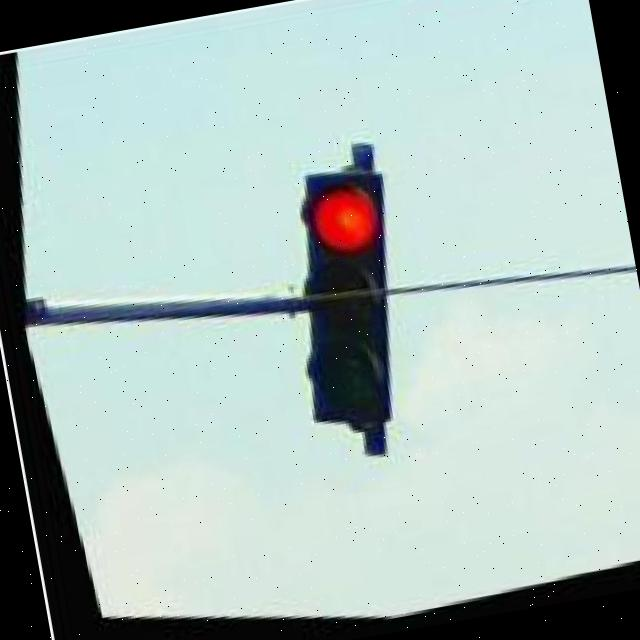red_light: (240, 150, 440, 444)
